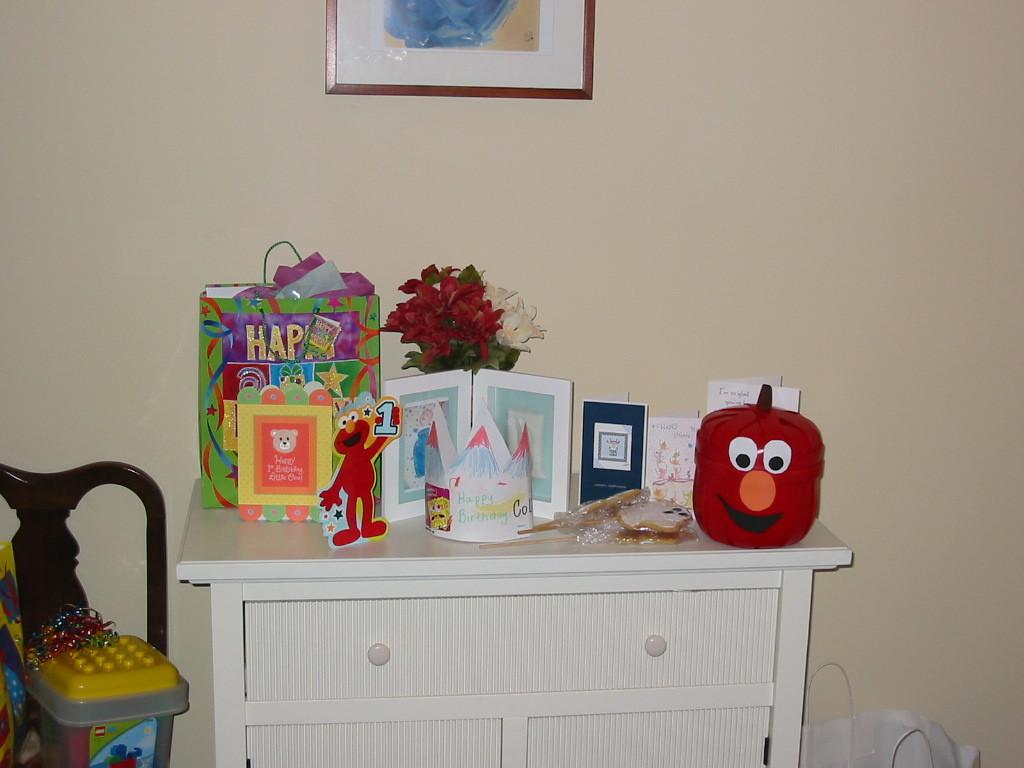cabinet_door: (250, 598, 768, 692), (540, 716, 756, 768), (262, 724, 502, 768)
handle: (361, 641, 395, 677), (639, 634, 665, 666)
